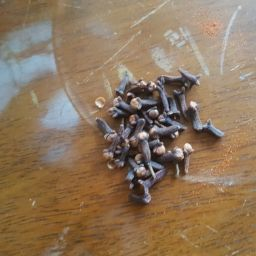Cloves: (89, 64, 230, 212)
